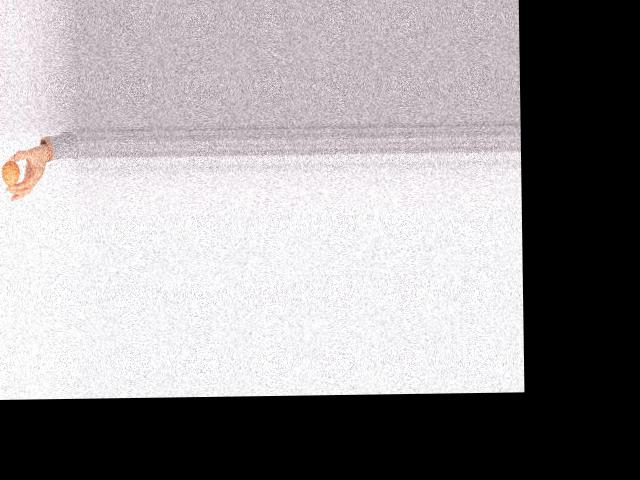egg: (1, 161, 19, 186)
